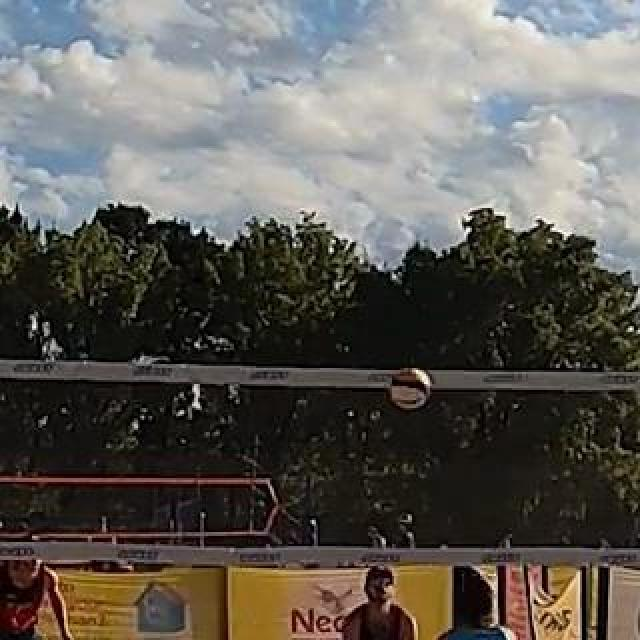volleyball: (389, 367, 429, 409)
